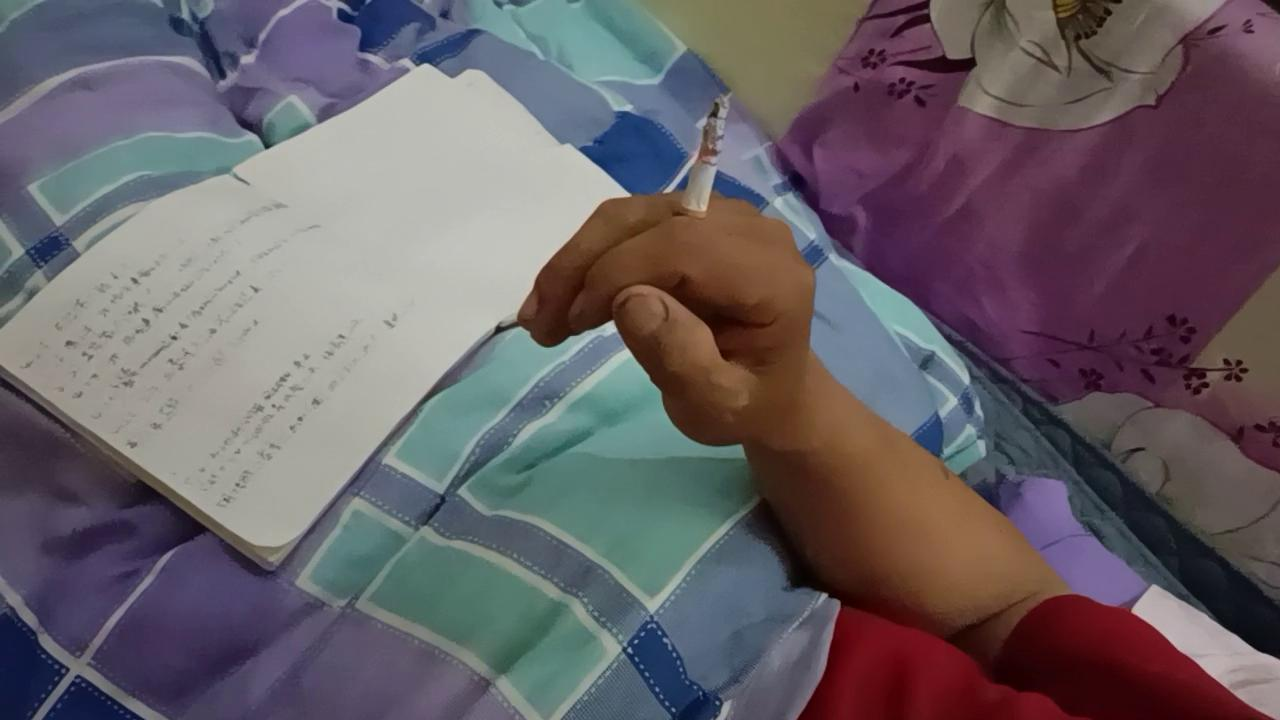smoke: (671, 94, 732, 244)
